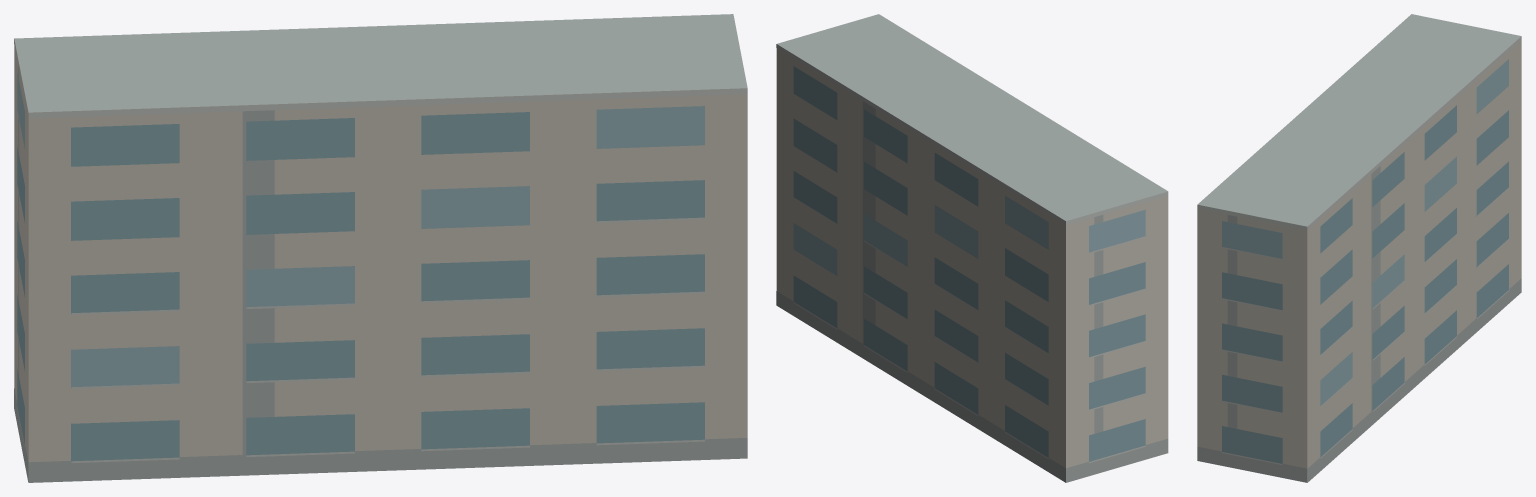
Rendered from survey-upis-33039995.glb.
The picture shows the model from 3 angles, left to right: view 1: azimuth 30°, elevation 25°; view 2: azimuth 150°, elevation 25°; view 3: azimuth 270°, elevation 25°; orthographic projection. The views are drawn at different scales.
Parts seen in each view (by area): view 1: survey-upis-33039995.tmp; view 2: survey-upis-33039995.tmp; view 3: survey-upis-33039995.tmp.
Part boxes in pixels (x1,y1,x2,y2): survey-upis-33039995.tmp: (14, 14, 747, 482); survey-upis-33039995.tmp: (776, 14, 1168, 482); survey-upis-33039995.tmp: (1197, 14, 1521, 482).
Size of the model in its own units: 27.15 by 15.25 by 17.5.
